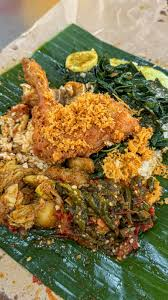Nasi padang: (4, 49, 160, 254)
